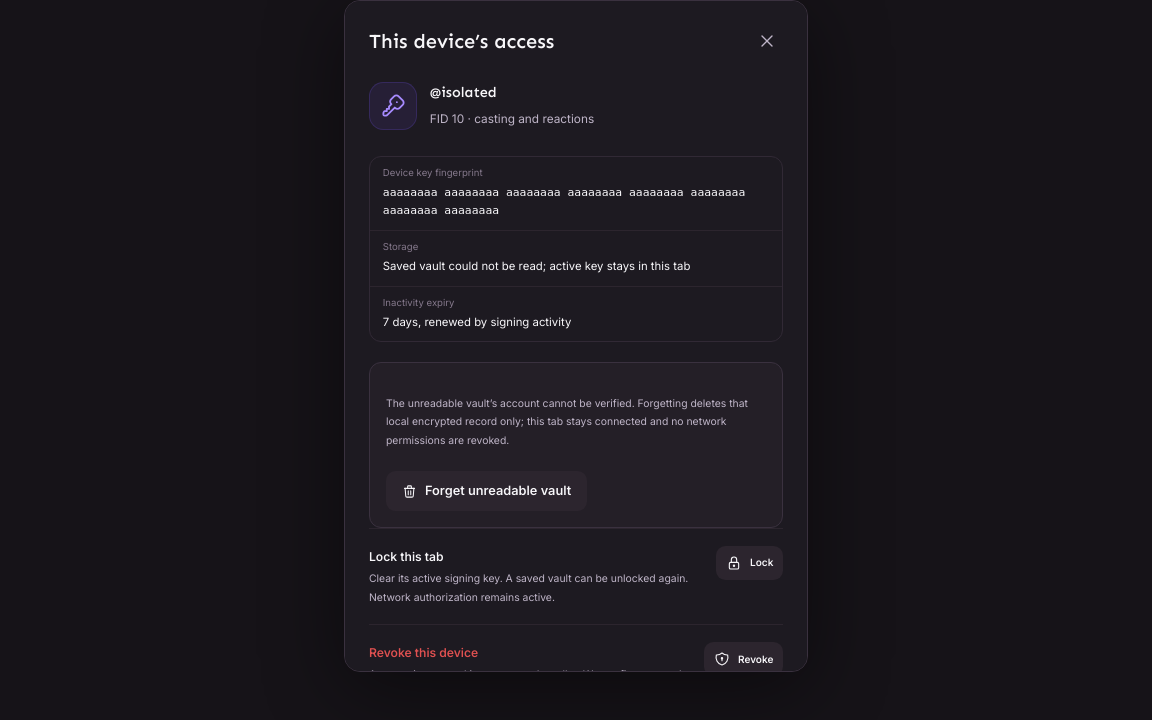
Test: explicit passkey device storage UI › lets an active device explicitly forget an unreadable vault without revoking or disconnecting it
Click the button "Forget unreadable vault" at (487, 491), box [386, 472, 587, 511]
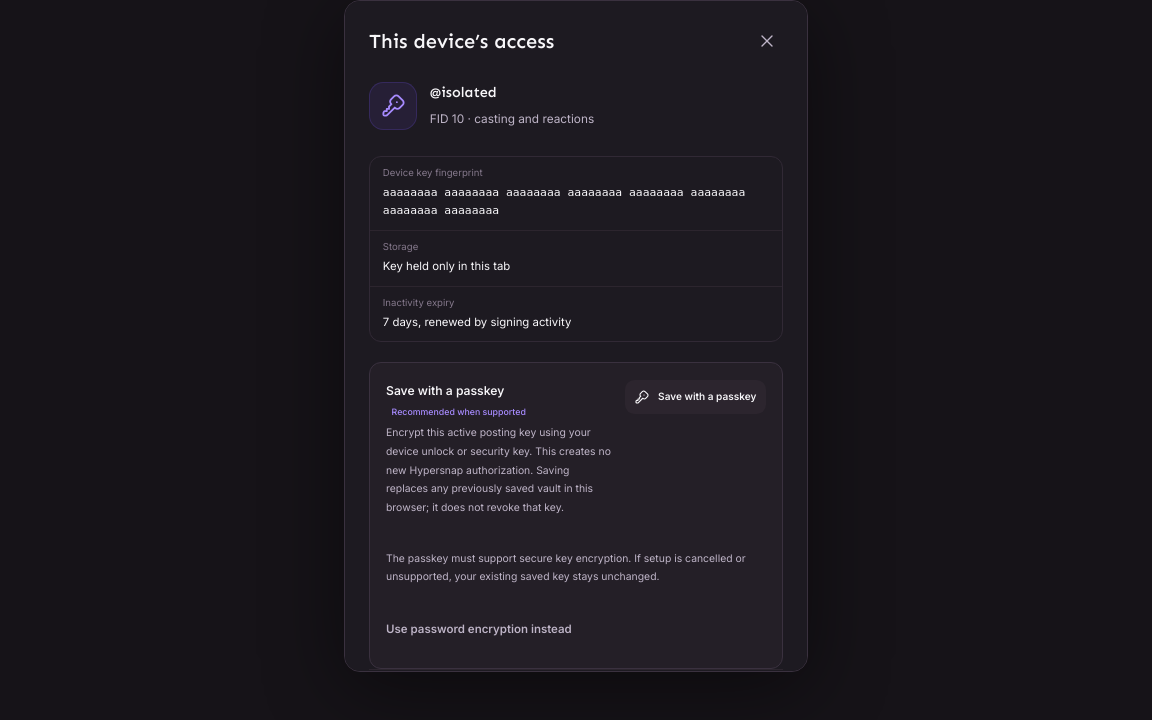
Result: the button "Save with a passkey" is shown at [624, 380, 766, 414]
